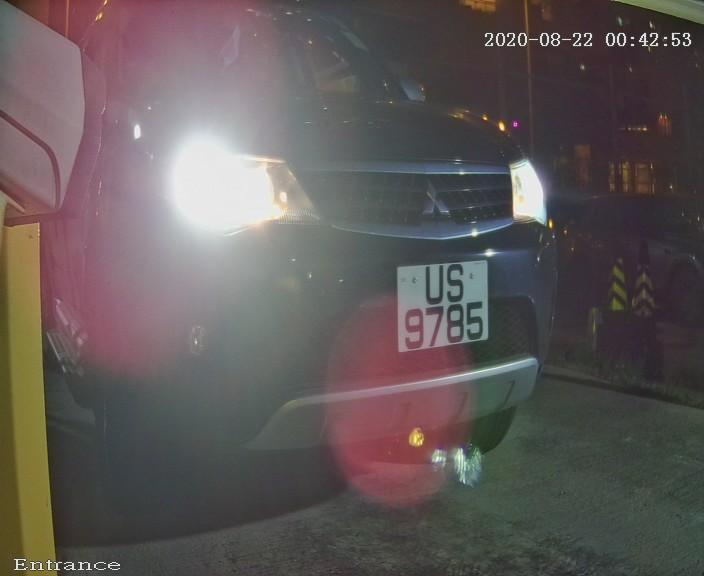Car: (29, 13, 632, 523)
License Plate: (387, 242, 500, 368)
